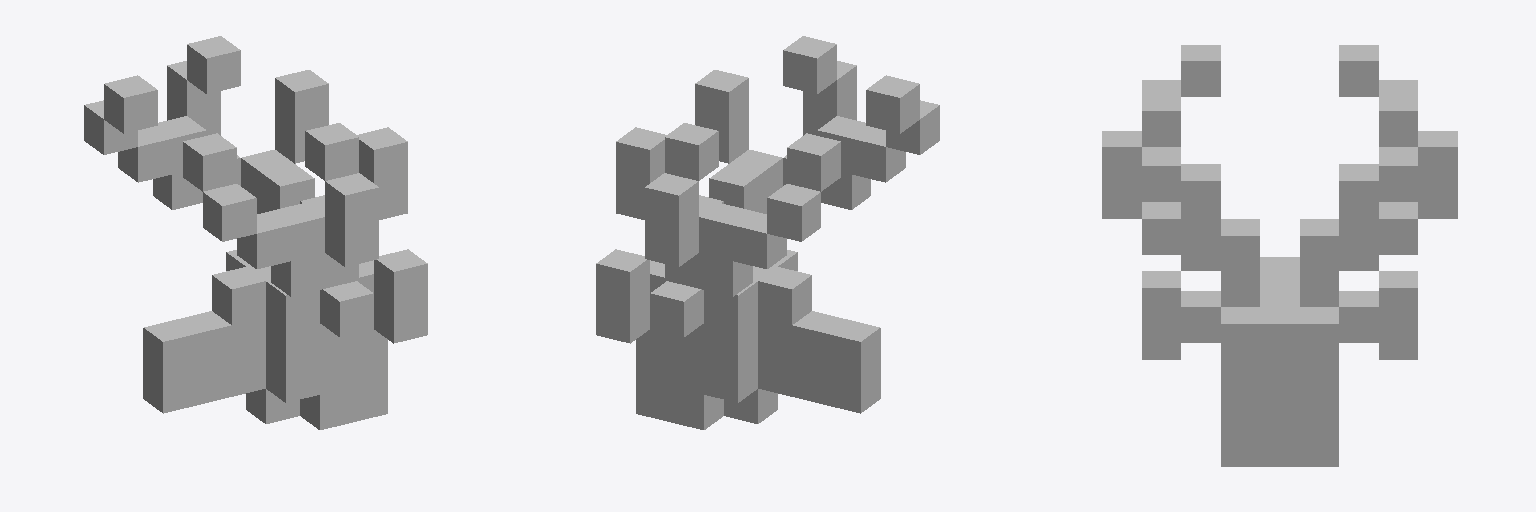
File: deer head-00.obj
3 renders of one model, left to right at view 1: azimuth 30°, elevation 25°; view 2: azimuth 150°, elevation 25°; view 3: azimuth 270°, elevation 25°, orthographic.
Bounding box in the file's own units: 6 × 9 × 9.